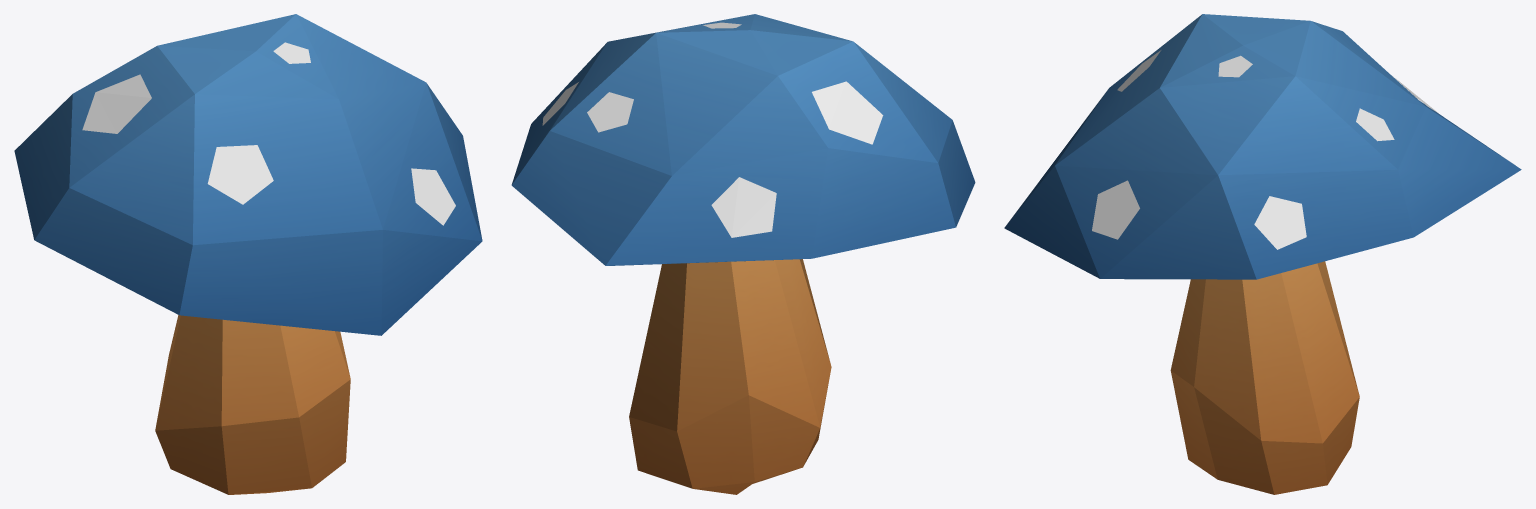
File: mushroom_blue_small.fbx
3 renders of one model, left to right at view 1: azimuth 30°, elevation 25°; view 2: azimuth 150°, elevation 25°; view 3: azimuth 270°, elevation 25°, orthographic. The views are drawn at different scales.
Parts seen in each view (by area): view 1: mushroom_blue_small; view 2: mushroom_blue_small; view 3: mushroom_blue_small.
Boxes of the visible parts, left/top/right/bottom form: mushroom_blue_small: left=14, top=14, right=482, bottom=494; mushroom_blue_small: left=511, top=14, right=975, bottom=494; mushroom_blue_small: left=1004, top=14, right=1521, bottom=494.
Size of the model in its own units: 0.5 by 0.5 by 0.55.
Materials: 2 (1 with a texture image).
